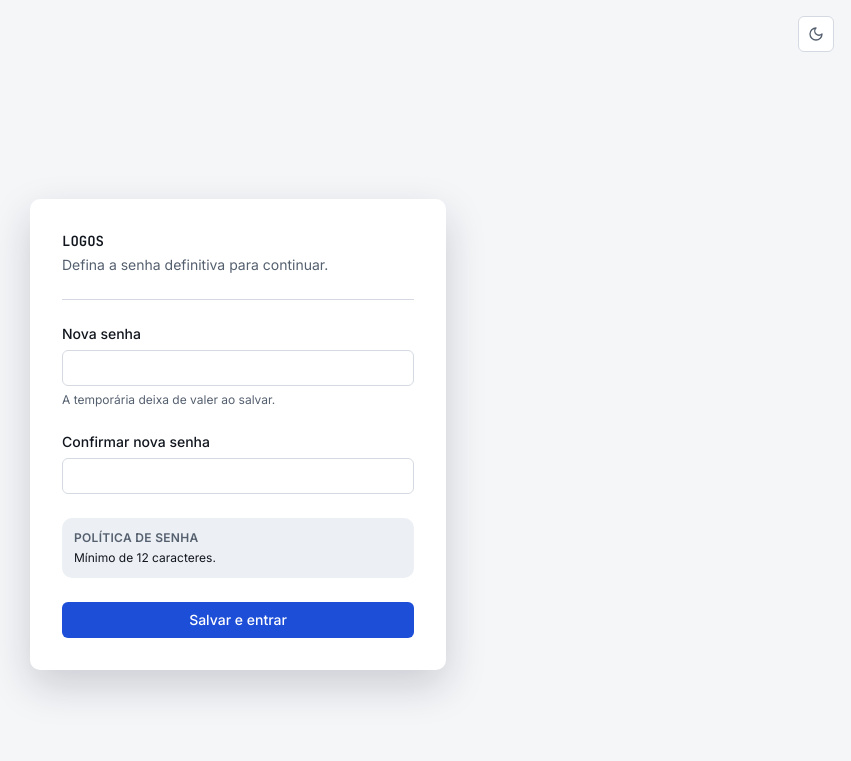
ChangePasswordScreen › traduz a recusa da API sem vazar a mensagem interna
This screenshot has width=851, height=761.
Type "definitiva-2026-logos" into the password field labelled "Nova senha" at (238,368), box x1=62 y1=350 x2=414 y2=386
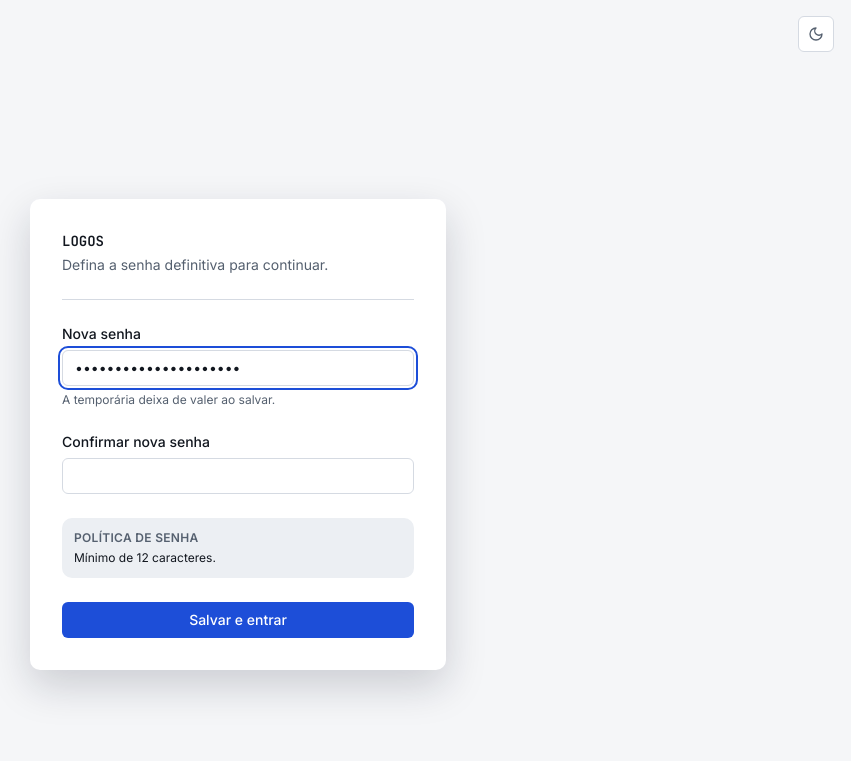
Type "definitiva-2026-logos" into the password field labelled "Confirmar nova senha" at (238,476), box x1=62 y1=458 x2=414 y2=494
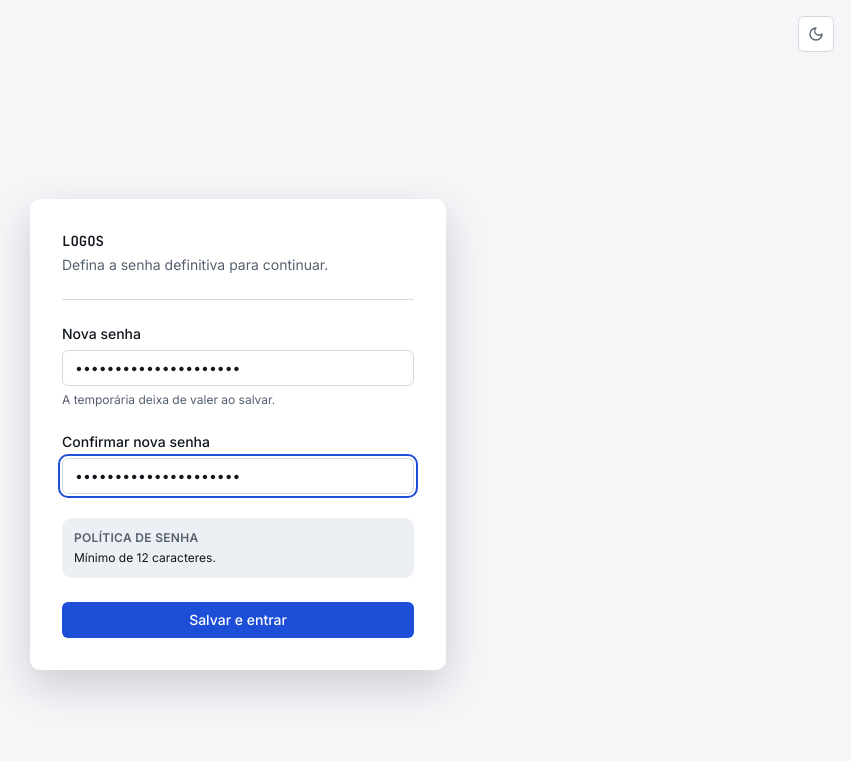
Click the button "Salvar e entrar" at (238,620), box x1=62 y1=602 x2=414 y2=638
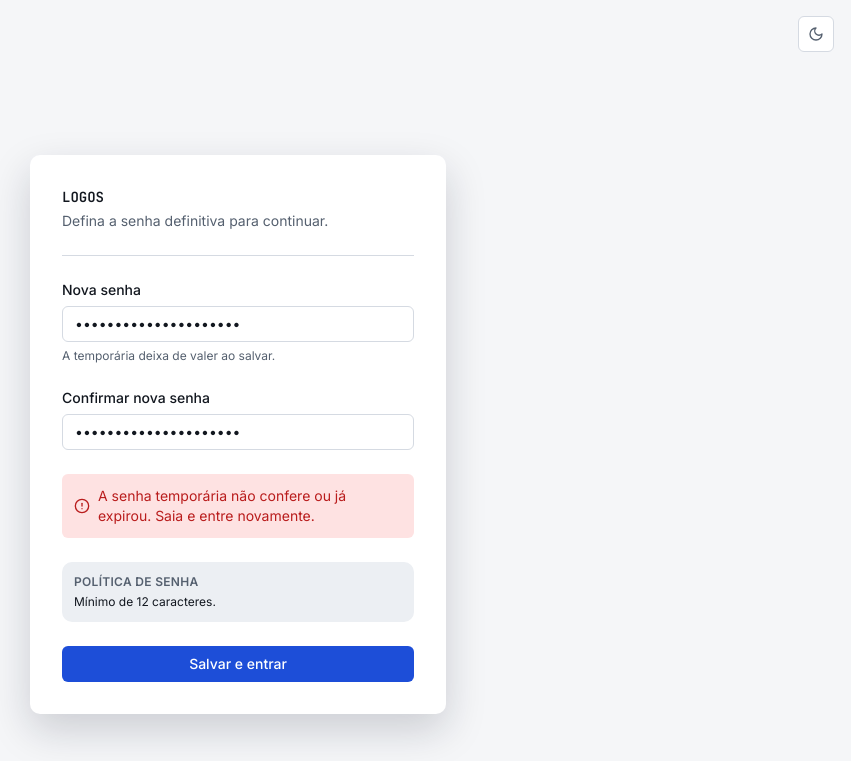
Result: the message shows "A senha temporária não confere ou já expirou." at x1=98 y1=486 x2=346 y2=524
